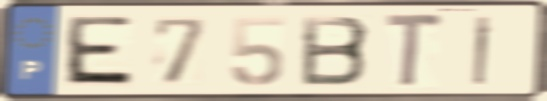5: (228, 14, 288, 88)
7: (150, 16, 210, 88)
B: (299, 14, 373, 89)
E: (59, 13, 137, 90)
I: (470, 14, 496, 88)
T: (382, 10, 448, 91)
